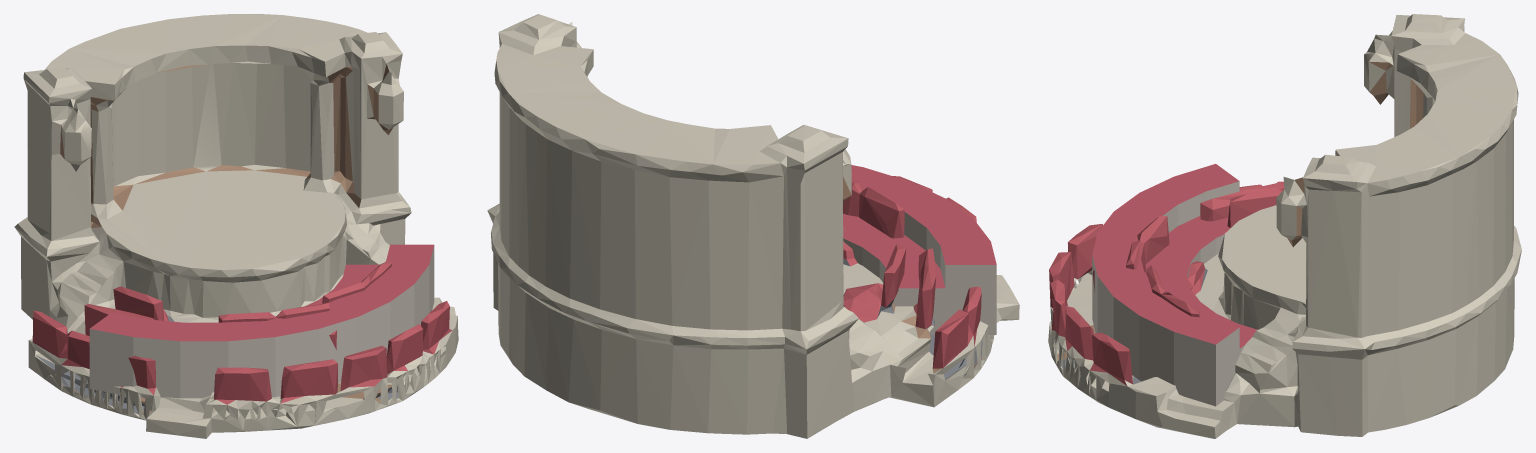
3 views of the same model, side by side, from view 1: azimuth 30°, elevation 25°; view 2: azimuth 150°, elevation 25°; view 3: azimuth 270°, elevation 25° (orthographic). The views are drawn at different scales.
Visible parts, largest first — view 1: geometry_0; view 2: geometry_0; view 3: geometry_0.
Part boxes in pixels (x1,y1,x2,y2): geometry_0: [14, 14, 458, 438]; geometry_0: [487, 14, 1019, 438]; geometry_0: [1048, 14, 1521, 438].
Bounding box in the file's own units: 0.9826 × 0.6197 × 0.9956.
